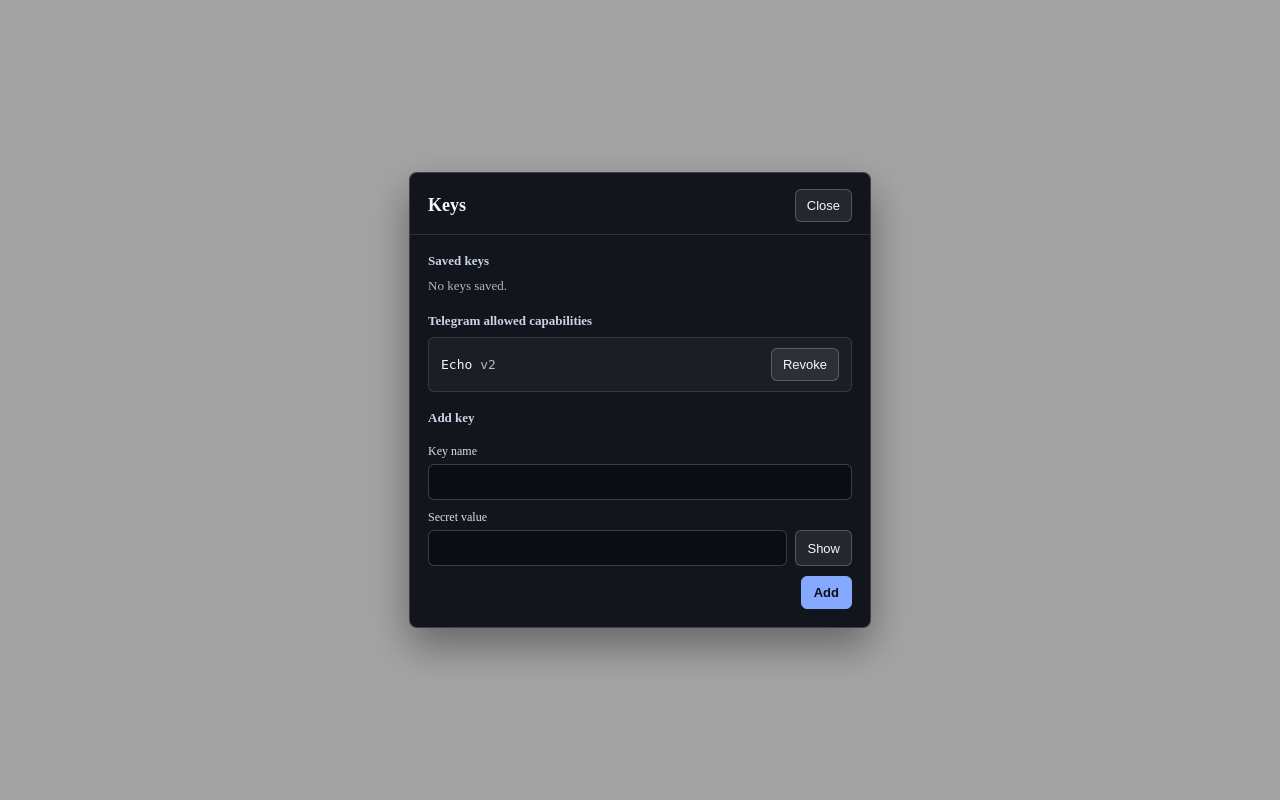
Test case: KeysPanel › revokes a Telegram-blessed capability and refreshes the list
Click the button "Revoke". click: (805, 365)
box: [771, 348, 839, 381]
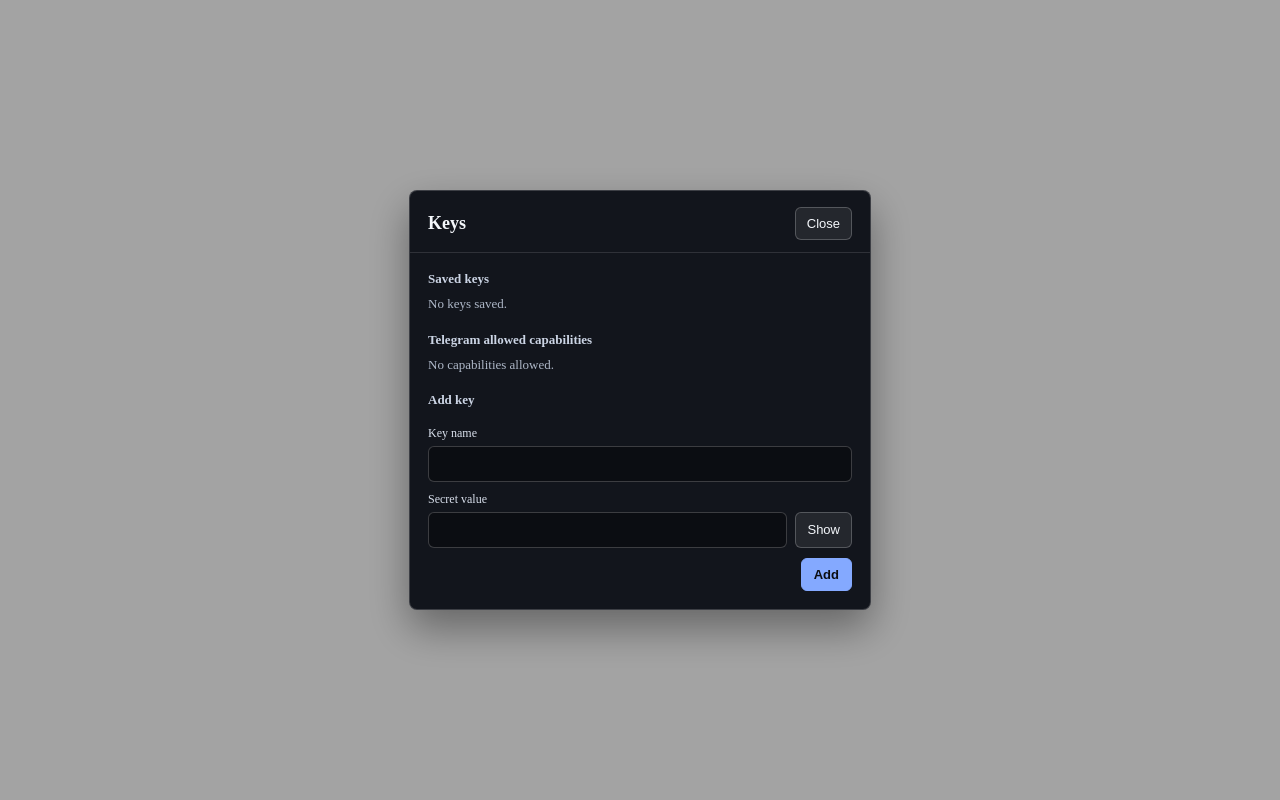
Result: the text "Echo" is gone
